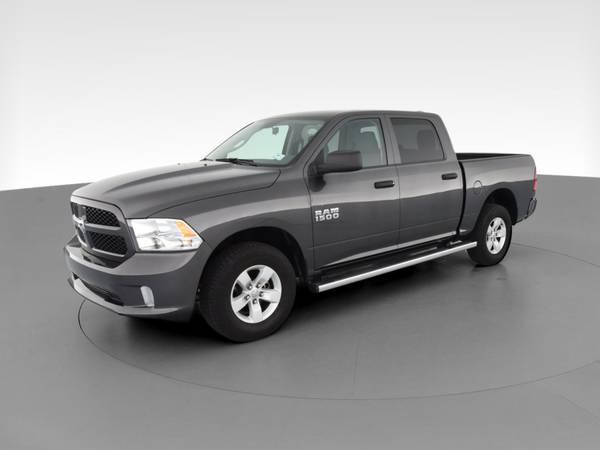Front_Bumper: (64, 236, 210, 315)
Front_Fender: (152, 161, 313, 274)
Front_Left_Door: (304, 162, 402, 271)
Front_Left_Window: (305, 114, 395, 170)
Front_Windshield: (203, 115, 328, 167)
Grille: (71, 195, 135, 262)
Hood: (73, 160, 281, 219)
Left_Headlight: (127, 217, 205, 251)
Rear_Fender: (458, 153, 536, 234)
Rear_Left_Door: (395, 159, 463, 246)
Rear_Left_Window: (386, 114, 457, 165)
Roof: (267, 106, 440, 163)
Wheel: (203, 243, 297, 342), (471, 205, 515, 265)
